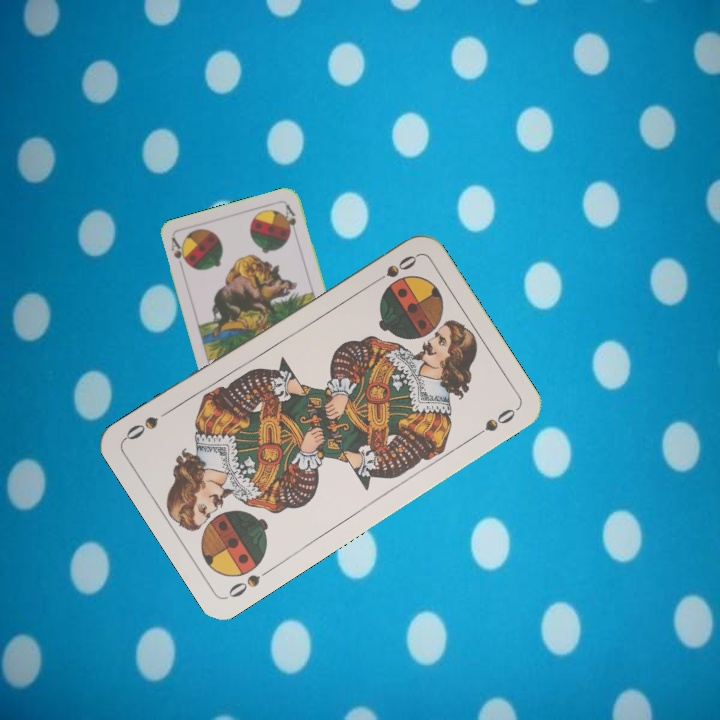SA: (167, 234, 190, 274)
SO: (366, 250, 420, 288), (224, 563, 276, 601)
